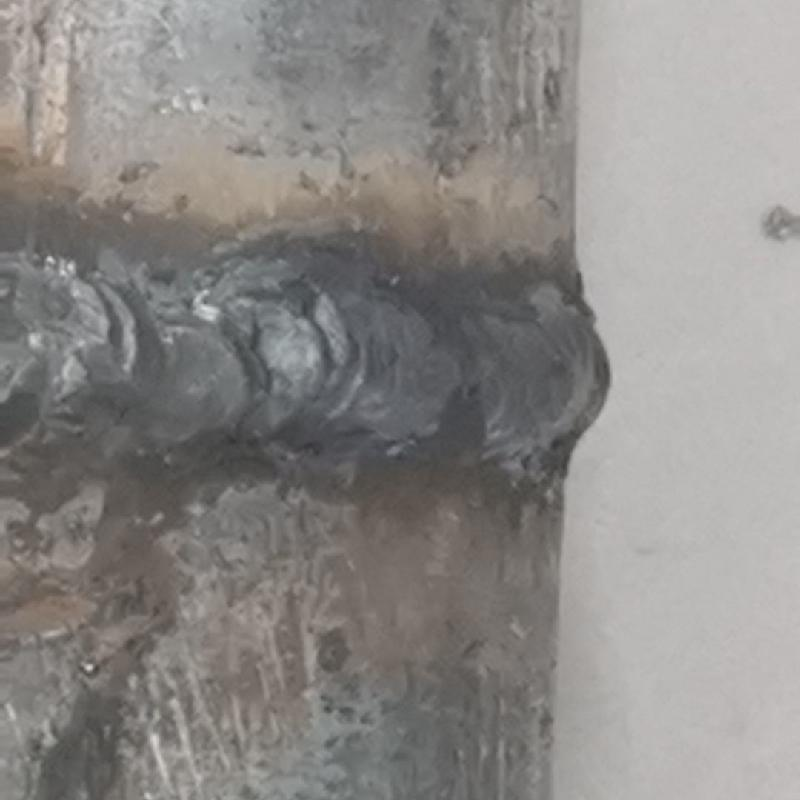good: (1, 240, 609, 485)
